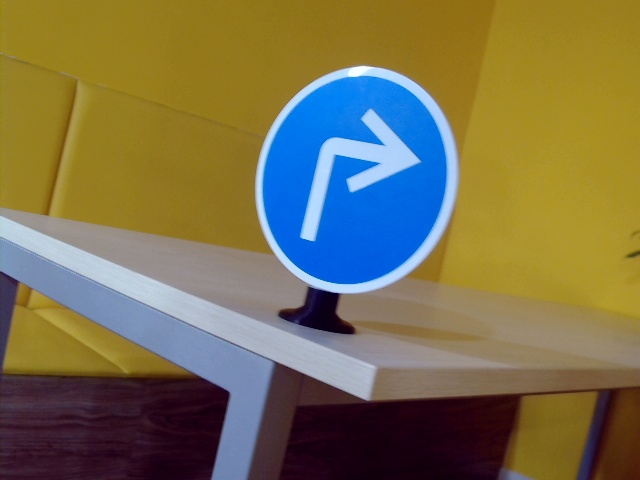turn_right: (294, 112, 421, 243)
